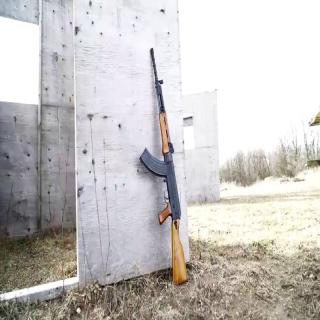gun: (140, 41, 189, 292)
